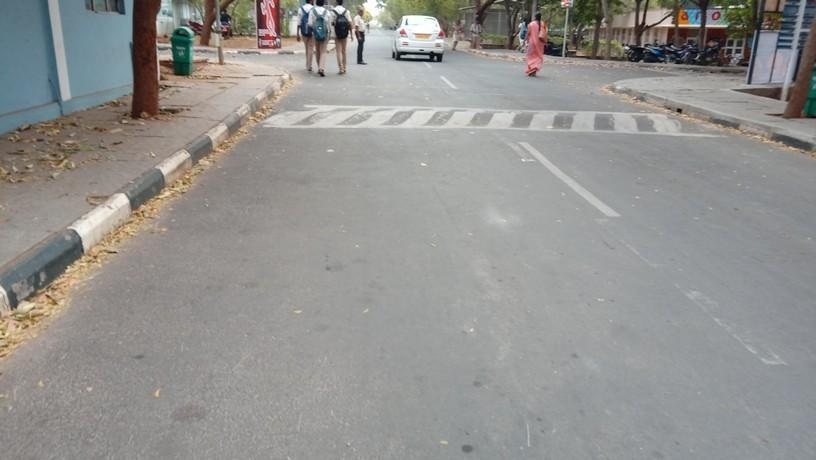speedbreaker: (256, 96, 746, 136)
